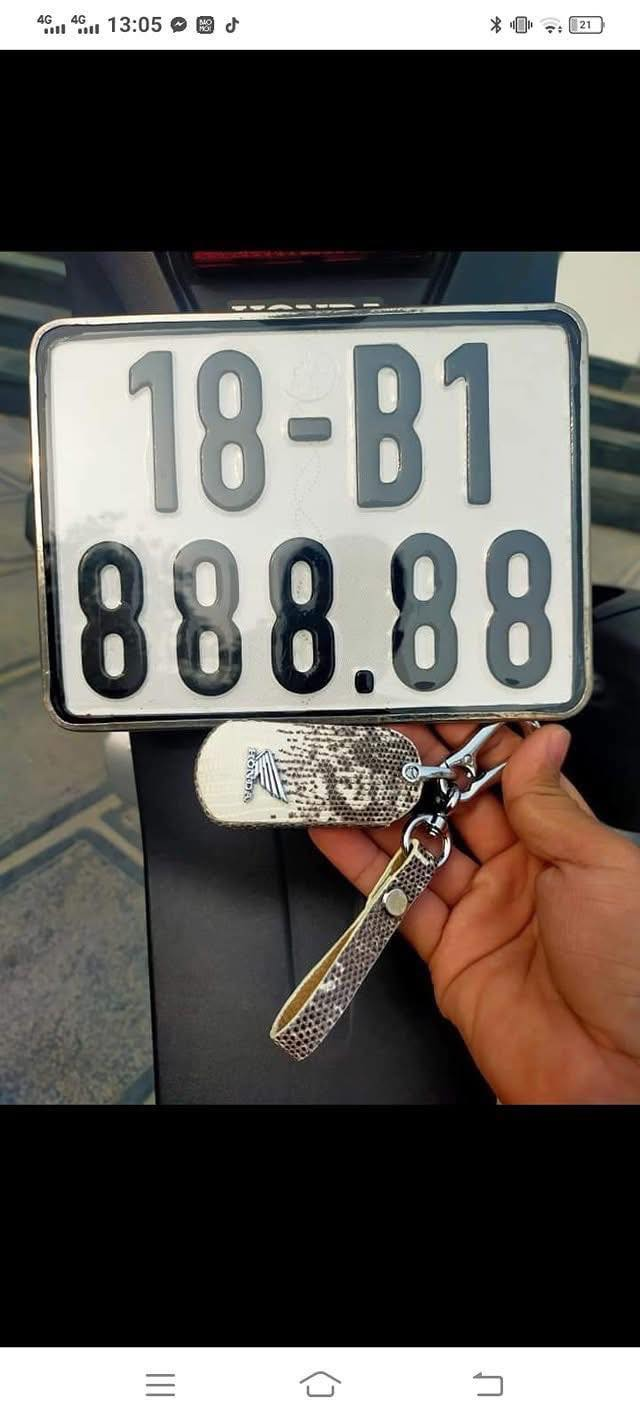bien_so: (15, 285, 613, 743)
